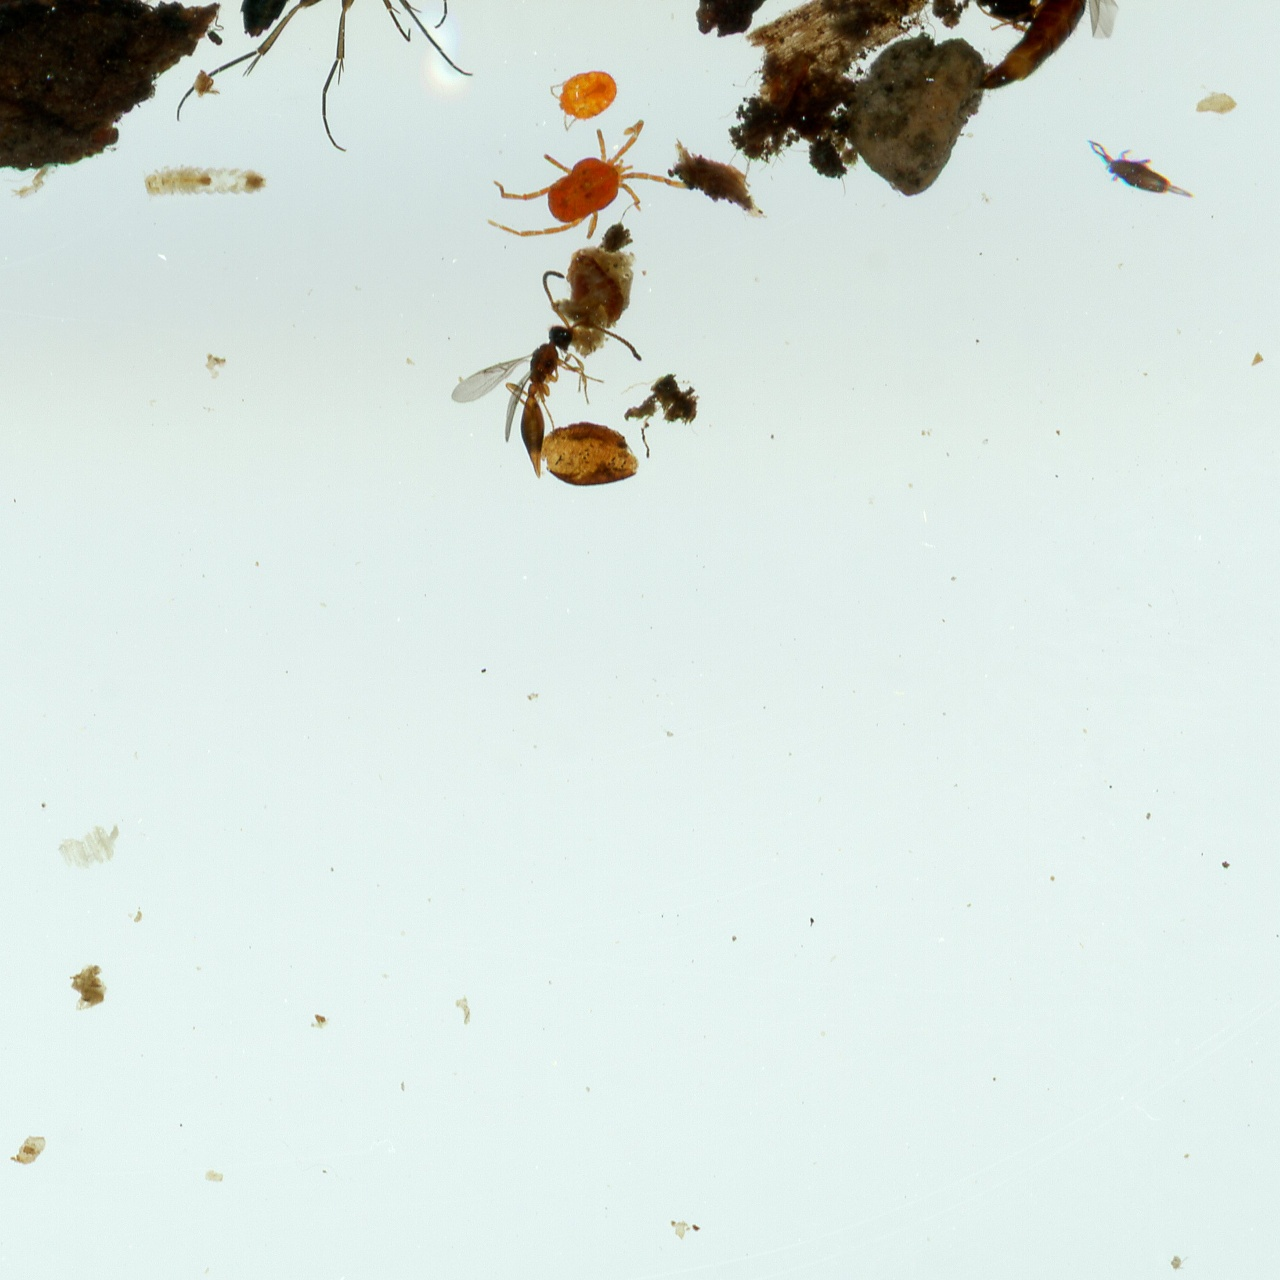arthropod: (431, 251, 662, 497), (169, 0, 474, 152), (485, 121, 690, 244), (961, 0, 1125, 100), (1070, 124, 1211, 220), (142, 161, 268, 202), (549, 63, 621, 132)
